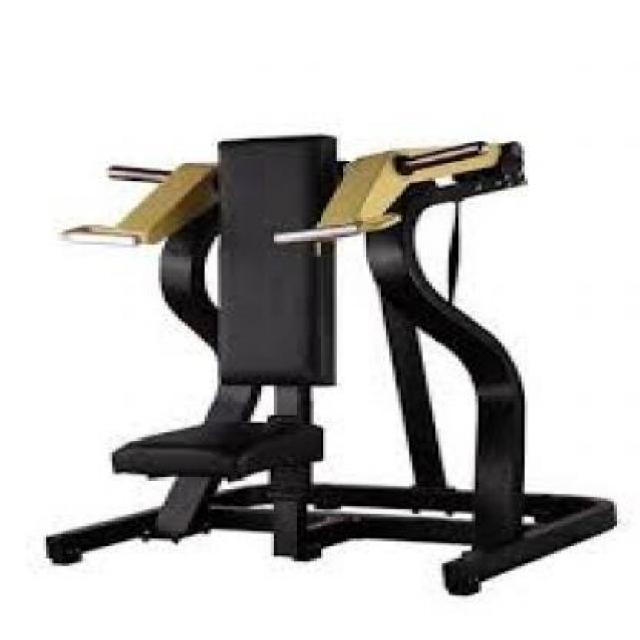shoulder press machine: (18, 105, 628, 604)
